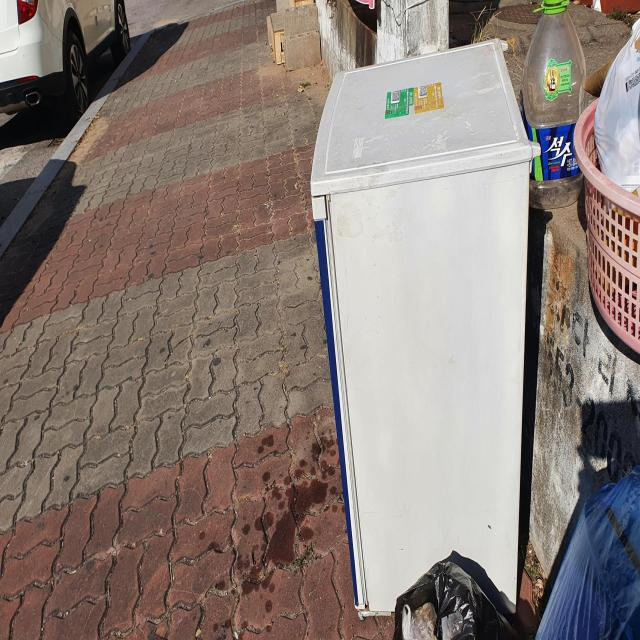refrigerator: (309, 30, 544, 627)
